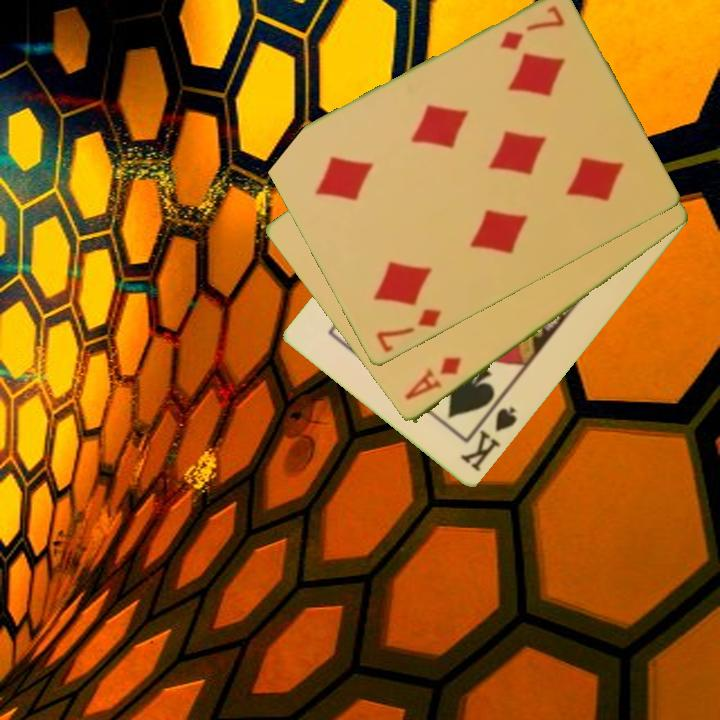7d: (373, 305, 445, 356), (495, 3, 567, 54)
Ad: (400, 353, 465, 404)
Ks: (457, 396, 520, 475)
